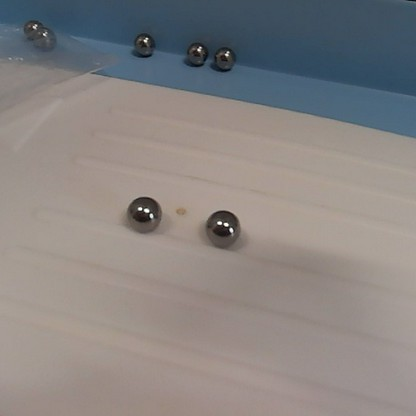ironball: (197, 204, 246, 251), (122, 194, 166, 233), (210, 43, 241, 75), (130, 31, 157, 59), (184, 37, 209, 65), (32, 27, 59, 51), (19, 20, 43, 39)
